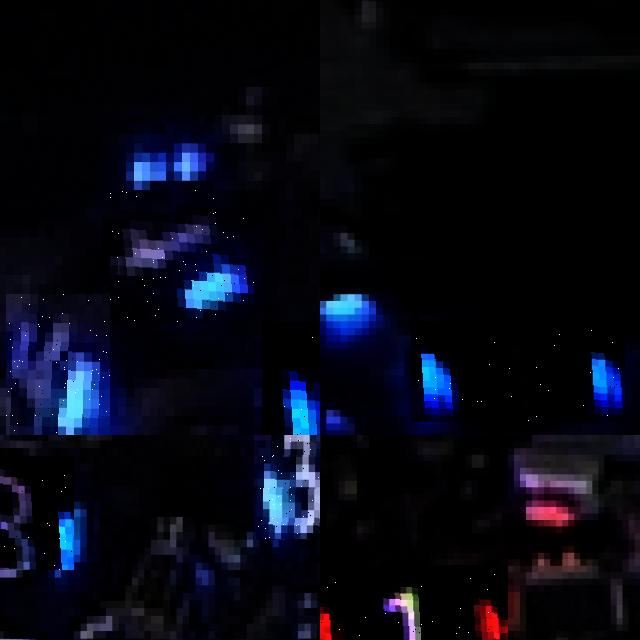B1: (411, 322, 625, 424)
B3: (0, 455, 74, 570), (253, 435, 320, 539)
B4: (110, 190, 254, 322), (6, 293, 110, 435), (262, 322, 320, 435)
R1: (320, 565, 507, 640)
